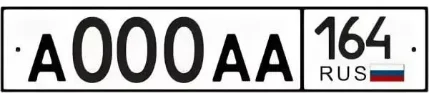number_plate: (5, 5, 428, 89)
